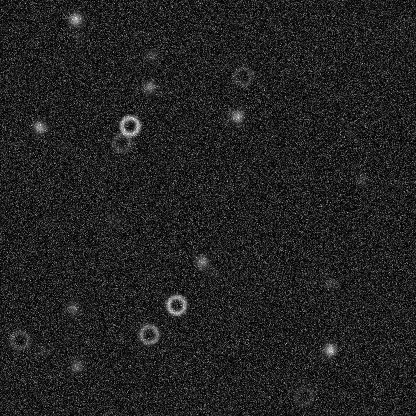Ring: (7, 327, 31, 351), (109, 130, 133, 154), (230, 63, 254, 87), (136, 322, 160, 346), (291, 384, 315, 408), (117, 113, 141, 137), (164, 292, 188, 316)
Spot: (67, 10, 83, 26), (106, 211, 122, 227), (322, 275, 338, 291), (68, 357, 84, 373), (321, 341, 337, 357), (353, 171, 369, 187), (31, 118, 47, 134), (229, 108, 245, 124), (64, 300, 80, 316), (204, 265, 220, 281), (69, 27, 85, 43), (34, 342, 50, 358), (193, 253, 209, 269), (141, 78, 157, 94), (143, 47, 159, 63)
